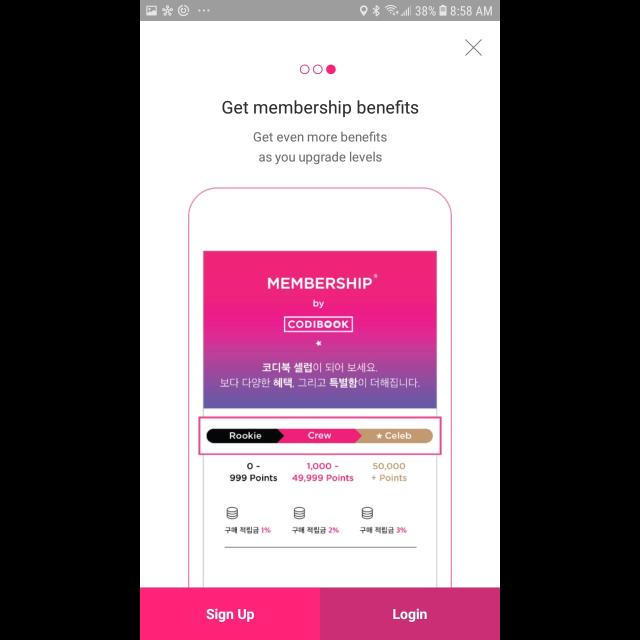icon: (465, 40, 483, 56)
image: (188, 188, 452, 588)
pageindicator: (300, 65, 336, 75)
text: (254, 131, 386, 165), (223, 100, 419, 118)
textbutton: (140, 588, 320, 640), (320, 588, 500, 640)
uppertaskbar: (140, 1, 500, 22)
